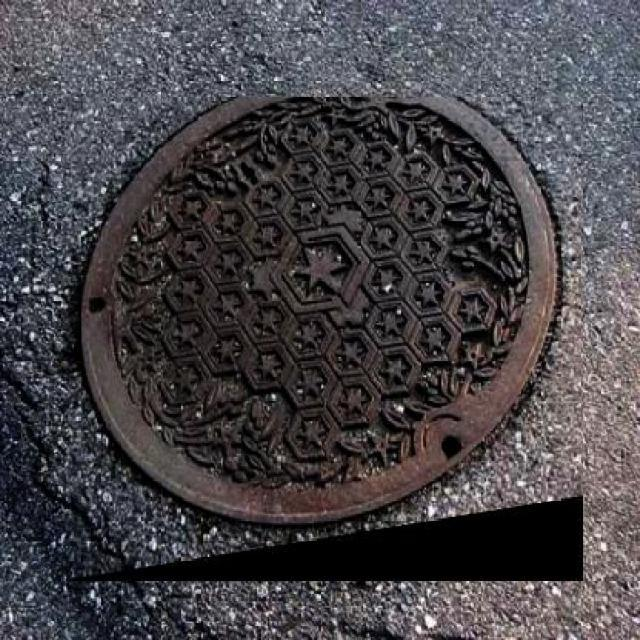Manhole: (66, 97, 583, 580)
